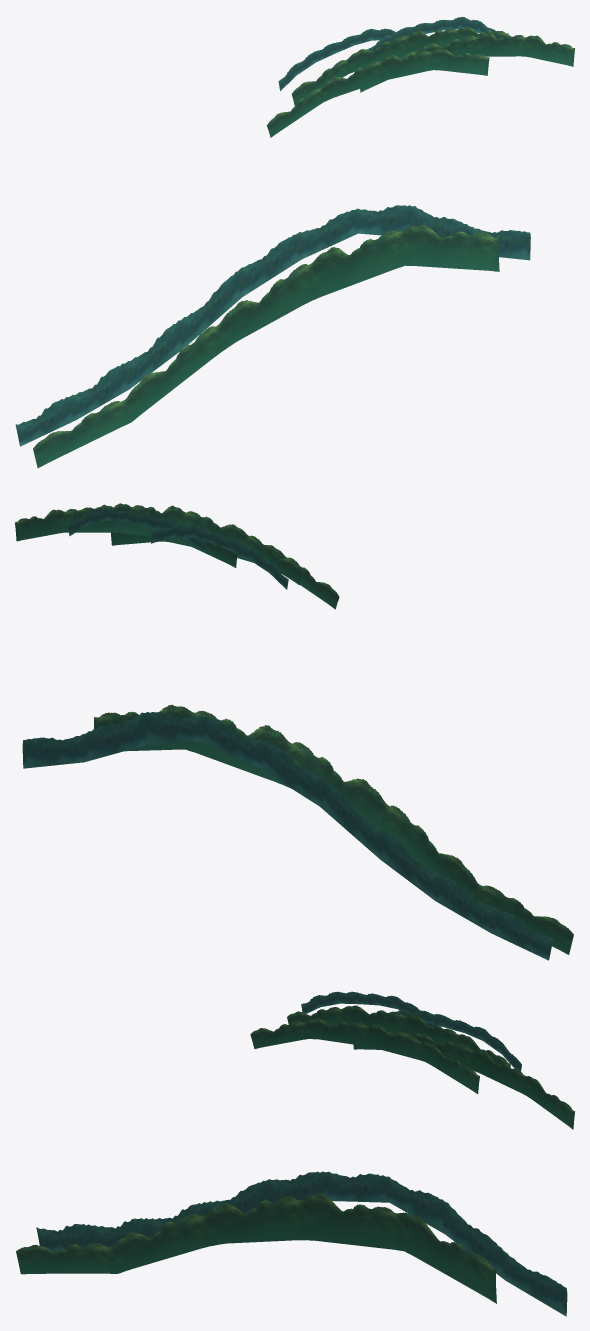
File: LVL 7 Horizon.FBX
3 renders of one model, top to bottom at view 1: azimuth 30°, elevation 25°; view 2: azimuth 150°, elevation 25°; view 3: azimuth 330°, elevation 25°, orthographic. The views are drawn at different scales.
Parts seen in each view (by area): view 1: LVL7 Horizon, LVL7 Horizon_2; view 2: LVL7 Horizon, LVL7 Horizon_2; view 3: LVL7 Horizon, LVL7 Horizon_2.
Part boxes in pixels (box(x1,y1,x2,y2)): LVL7 Horizon: box(15, 205, 530, 467); LVL7 Horizon_2: box(266, 17, 575, 137); LVL7 Horizon: box(22, 704, 573, 960); LVL7 Horizon_2: box(14, 503, 339, 609); LVL7 Horizon: box(16, 1171, 567, 1316); LVL7 Horizon_2: box(250, 991, 575, 1129).
Bounding box in the file's own units: 20189 × 1481 × 12437.
Materials: 1 (1 with a texture image).
